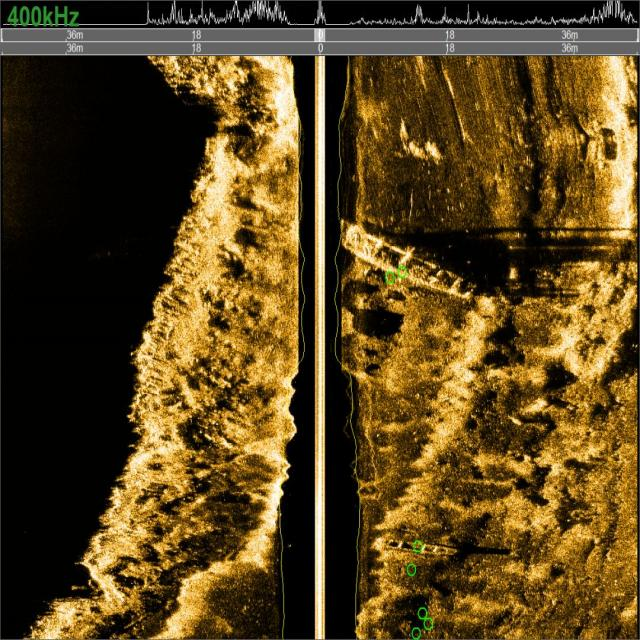ship: (337, 213, 476, 307)
